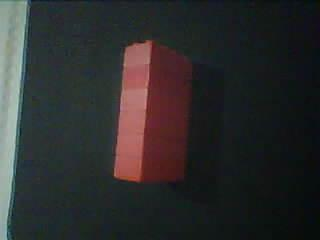lego: (113, 40, 194, 183)
